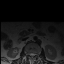CCS_normal: (31, 50, 33, 60)
LFS_stenosis: (35, 51, 37, 57)
LLS_normal: (33, 50, 35, 58)
RFS_normal: (27, 50, 29, 56)
RLS_normal: (29, 50, 31, 58)
